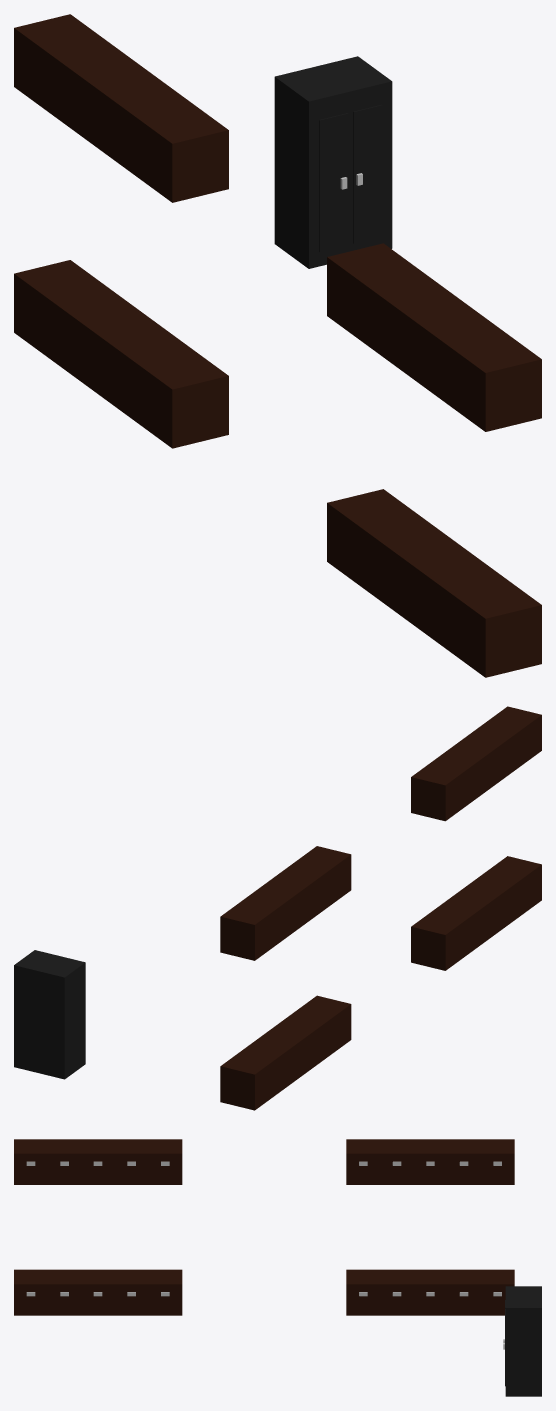
The model's file is Kitchen.obj.
3 renders of one model, top to bottom at view 1: azimuth 30°, elevation 25°; view 2: azimuth 150°, elevation 25°; view 3: azimuth 270°, elevation 25°, orthographic. The views are drawn at different scales.
Parts seen in each view (by area): view 1: Cube.004, Cube.022, Cube.015, Cube.002, Cube.012, Cube.008, Cube.017, Cube.021, Cube.011, Cube.010, Cube.014, Cube.003 (+9 smaller); view 2: Cube.004, Cube.005, Cube.009, Cube.018, Cube.020, Cube.012, Cube.017, Cube.022, Cube.015, Cube.002, Cube.011, Cube.001 (+9 smaller); view 3: Cube.004, Cube.009, Cube.022, Cube.005, Cube.008, Cube.010, Cube.001, Cube.021, Cube.002, Cube.003, Cube.019, Cube.023 (+9 smaller).
Boxes of the visible parts, box(x1,y1,x2,y2) form: Cube.004: box(274, 56, 392, 268); Cube.022: box(140, 353, 228, 448); Cube.015: box(140, 106, 228, 202); Cube.002: box(453, 582, 541, 677); Cube.012: box(453, 336, 541, 431); Cube.008: box(358, 512, 446, 607); Cube.017: box(45, 37, 133, 132); Cube.021: box(77, 306, 165, 401); Cube.011: box(390, 290, 477, 385); Cube.010: box(358, 266, 446, 362); Cube.014: box(108, 83, 196, 179); Cube.003: box(390, 536, 478, 630); Cube.004: box(14, 950, 85, 1079); Cube.005: box(411, 763, 464, 821); Cube.009: box(411, 912, 464, 970); Cube.018: box(220, 1052, 273, 1110); Cube.020: box(220, 902, 273, 960); Cube.012: box(488, 706, 541, 764); Cube.017: box(240, 888, 293, 946); Cube.022: box(298, 995, 351, 1053); Cube.015: box(298, 846, 351, 903); Cube.002: box(488, 856, 541, 913); Cube.011: box(450, 734, 503, 792); Cube.001: box(469, 870, 522, 928); Cube.004: box(503, 1286, 541, 1396); Cube.009: box(148, 1269, 182, 1315); Cube.022: box(346, 1269, 380, 1315); Cube.005: box(148, 1139, 182, 1184); Cube.008: box(114, 1269, 148, 1315); Cube.010: box(114, 1139, 148, 1184); Cube.001: box(47, 1269, 81, 1315); Cube.021: box(413, 1269, 447, 1315); Cube.002: box(14, 1269, 47, 1315); Cube.003: box(81, 1269, 114, 1315); Cube.019: box(447, 1269, 480, 1315); Cube.023: box(380, 1269, 413, 1315).
Bounding box in the file's own units: 13.11 × 10.33 × 30.53.
